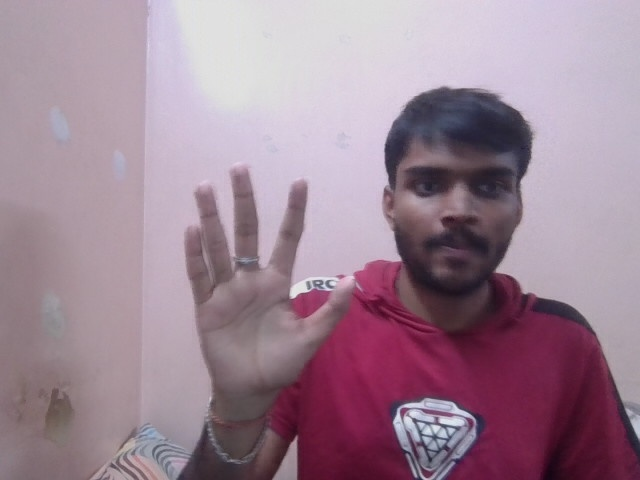Hello: (163, 153, 358, 395)
